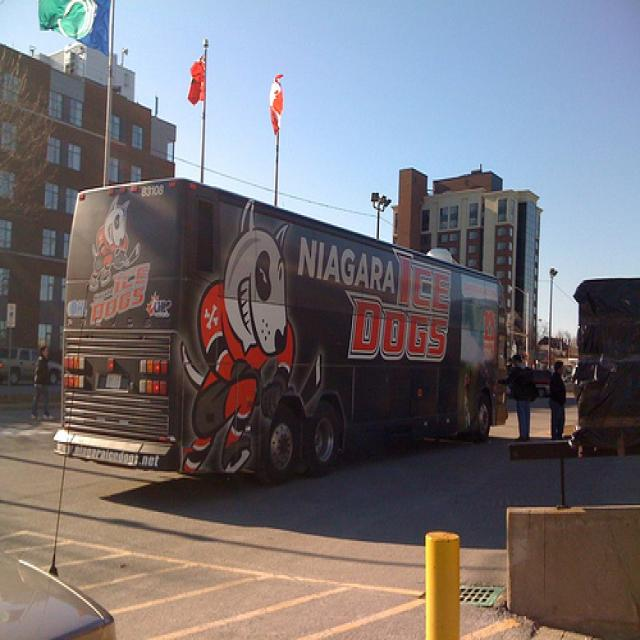Vehicle: (55, 174, 504, 485), (0, 554, 120, 640), (0, 346, 62, 384), (532, 369, 552, 396), (560, 364, 577, 391)
